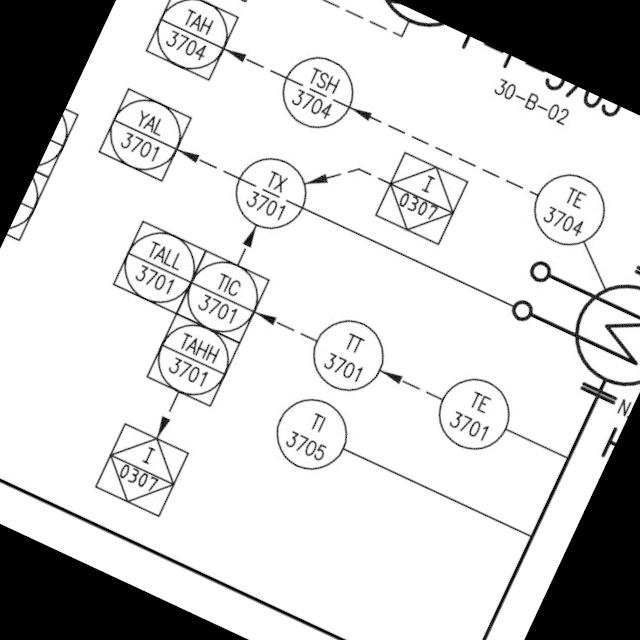HE: (553, 264, 640, 395)
